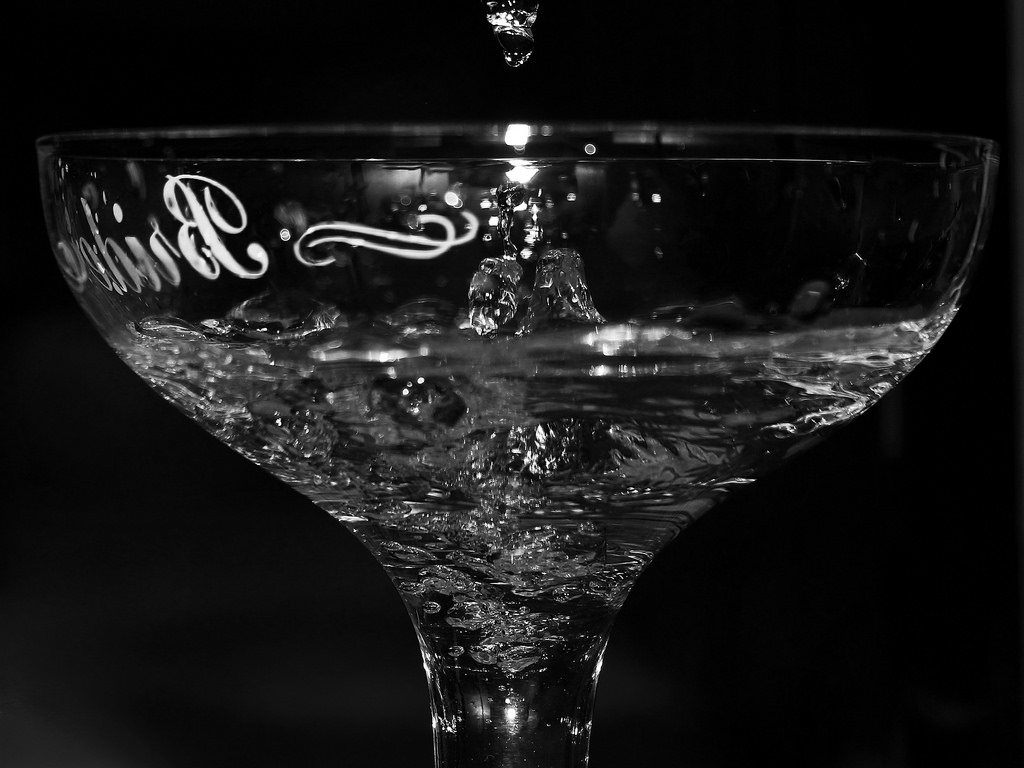glass of water: (16, 94, 1000, 763)
